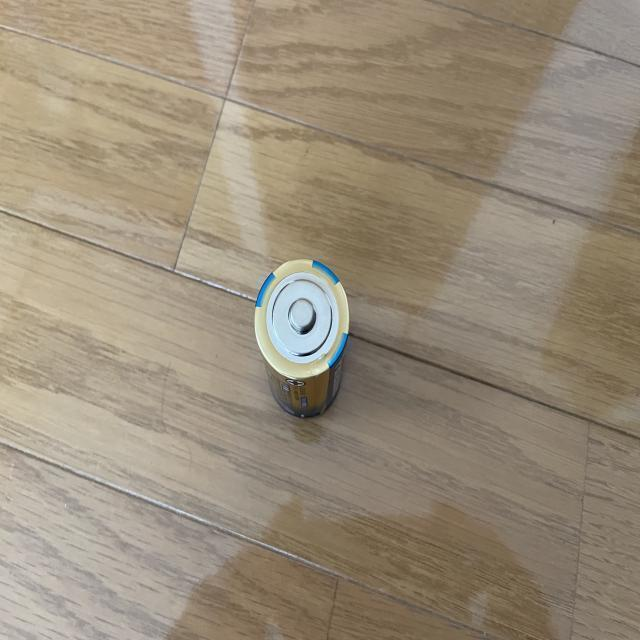Hazard: (252, 255, 354, 420)
